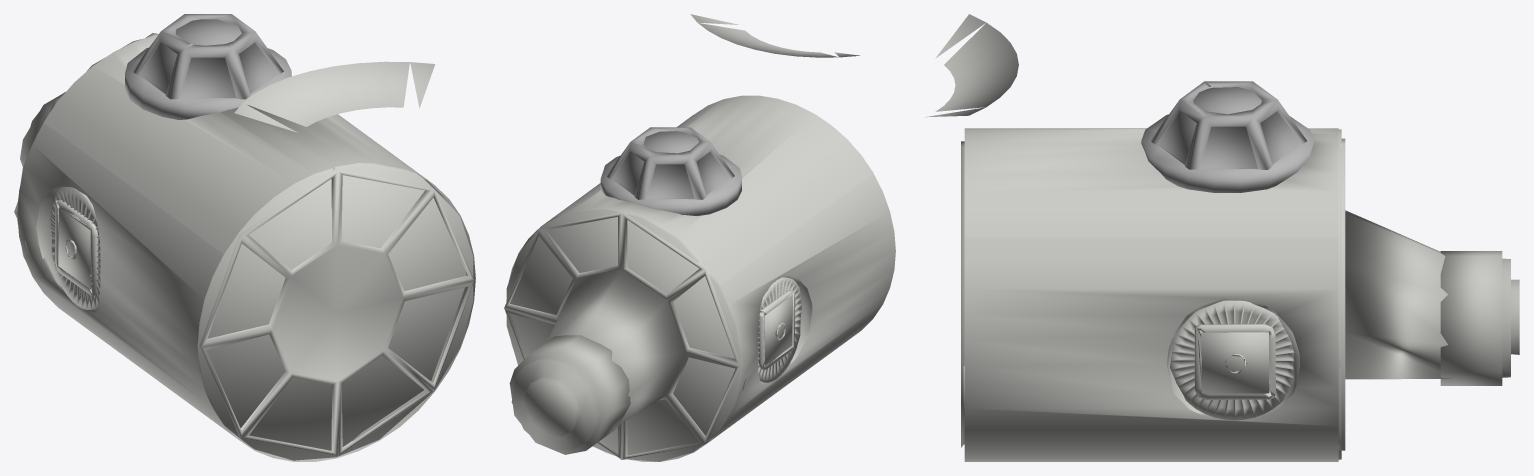
Rendered from iss-airlock.glb.
3 renders of one model, left to right at view 1: azimuth 30°, elevation 25°; view 2: azimuth 150°, elevation 25°; view 3: azimuth 270°, elevation 25°, orthographic. The views are drawn at different scales.
Parts seen in each view (by area): view 1: airlock; view 2: airlock; view 3: airlock.
Boxes of the visible parts, left/top/right/bottom form: airlock: left=14, top=14, right=475, bottom=461; airlock: left=504, top=14, right=895, bottom=461; airlock: left=925, top=14, right=1519, bottom=461.
Size of the model in its own units: 3.66 by 4.63 by 6.54.
Materials: 1 (1 with a texture image).
